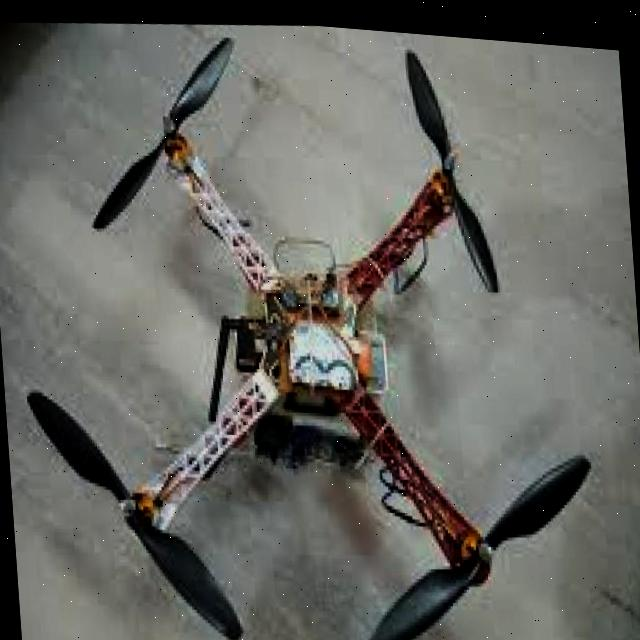drone: (30, 8, 586, 640)
